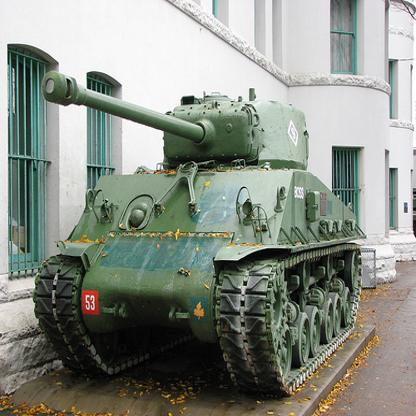Tank: (30, 69, 378, 401)
